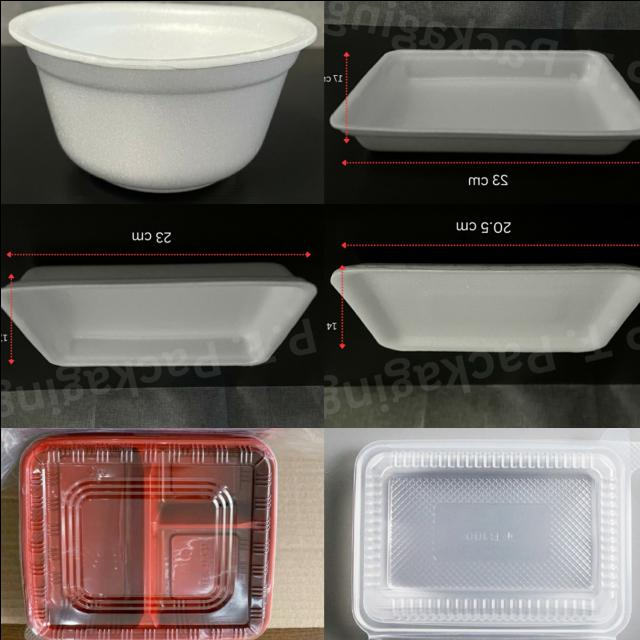plastik: (9, 2, 316, 192), (352, 439, 638, 640), (18, 433, 276, 640), (329, 49, 640, 154), (0, 262, 316, 365), (329, 263, 640, 352)
